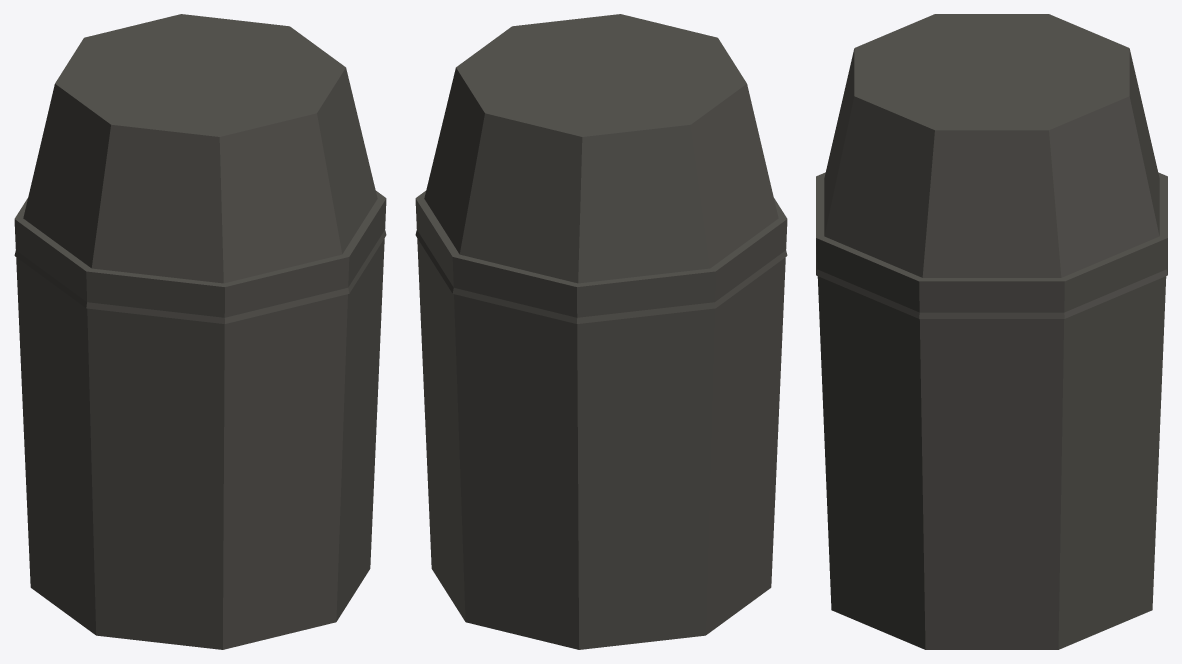
File: inf_possum_upper_leg.fbx
3 views of the same model, side by side, from view 1: azimuth 30°, elevation 25°; view 2: azimuth 150°, elevation 25°; view 3: azimuth 270°, elevation 25° (orthographic).
Parts seen in each view (by area): view 1: inf_possum_upper_leg; view 2: inf_possum_upper_leg; view 3: inf_possum_upper_leg.
Boxes of the visible parts, x1,y1,x2,y2 form: inf_possum_upper_leg: (14, 14, 386, 649); inf_possum_upper_leg: (415, 14, 787, 649); inf_possum_upper_leg: (816, 14, 1167, 649).
Bounding box in the file's own units: 85 × 136 × 85.
